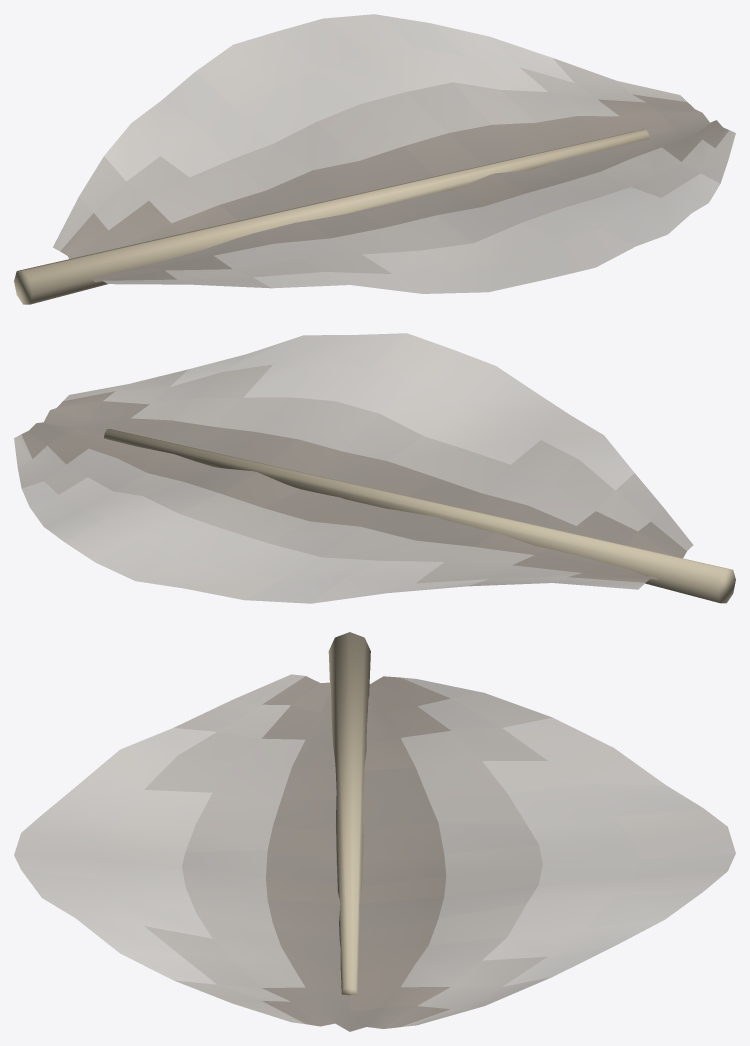
The model's file is Feather.glb.
3 renders of one model, top to bottom at view 1: azimuth 30°, elevation 25°; view 2: azimuth 150°, elevation 25°; view 3: azimuth 270°, elevation 25°, orthographic. The views are drawn at different scales.
Parts seen in each view (by area): view 1: Feather_Vane, Feather_Quill; view 2: Feather_Vane, Feather_Quill; view 3: Feather_Vane, Feather_Quill.
Part boxes in pixels (x1,y1,x2,y2): Feather_Vane: (53, 14, 735, 293); Feather_Quill: (14, 129, 649, 304); Feather_Vane: (14, 333, 693, 603); Feather_Quill: (104, 429, 735, 603); Feather_Vane: (14, 674, 735, 1031); Feather_Quill: (328, 632, 370, 995).
Bounding box in the file's own units: 0.5515 × 0.0398 × 0.4451.
